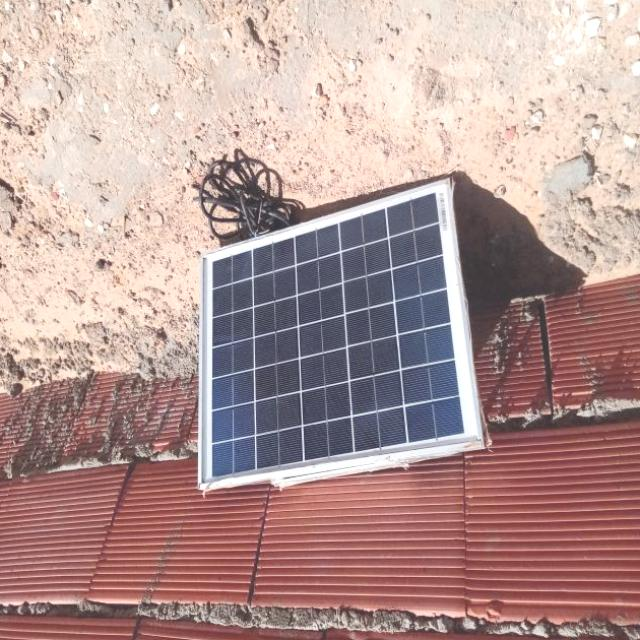Normal Solar Panel: (199, 179, 482, 486)
